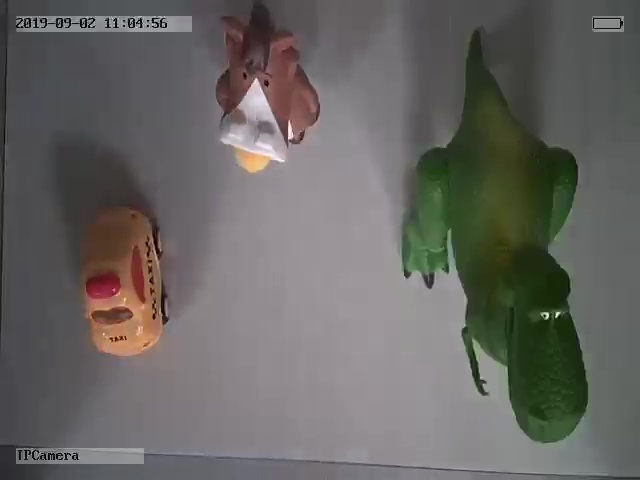car: (81, 204, 170, 356)
horse: (213, 6, 319, 174)
rex: (402, 43, 589, 443)
